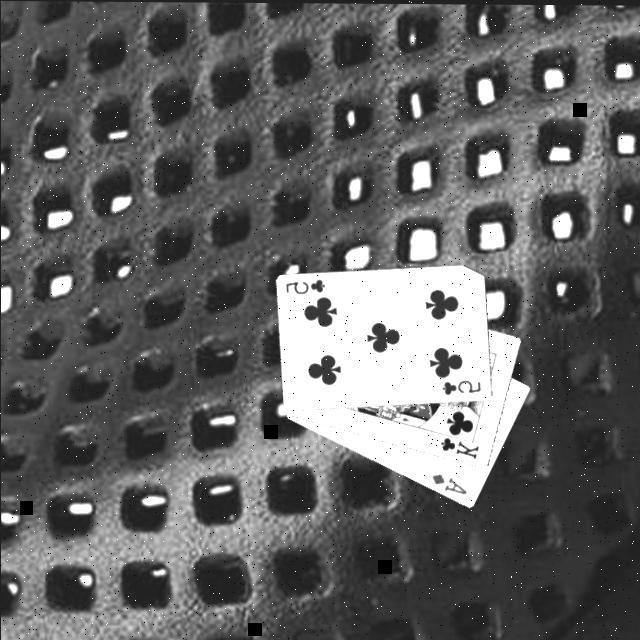5C: (284, 274, 329, 295), (440, 375, 485, 395)
AD: (429, 468, 472, 494)
KC: (437, 427, 483, 459)
